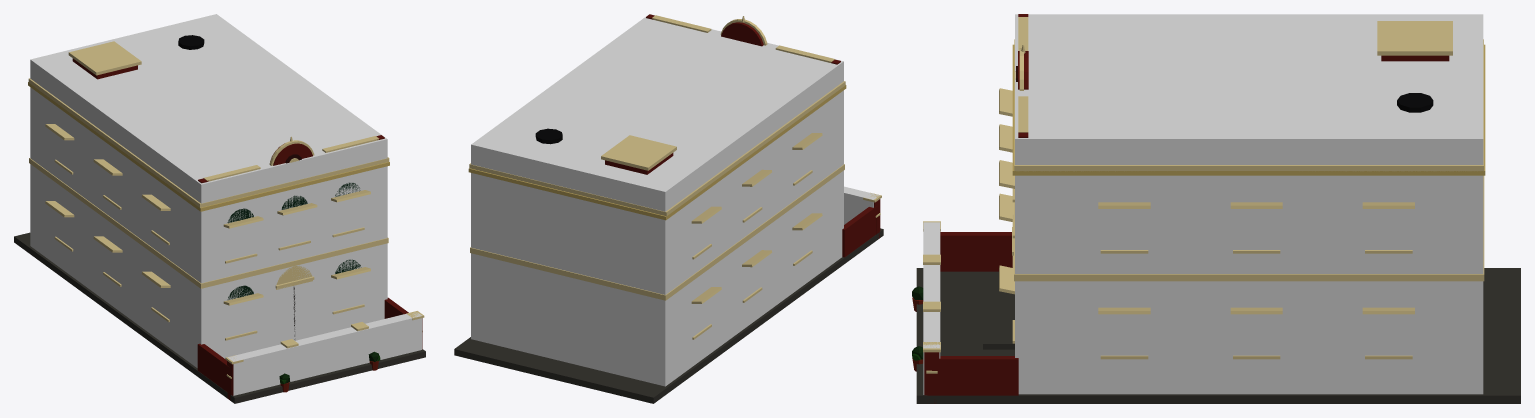
The model's file is CHN_012_madras_terrace.glb.
3 views of the same model, side by side, from view 1: azimuth 30°, elevation 25°; view 2: azimuth 150°, elevation 25°; view 3: azimuth 270°, elevation 25° (orthographic). The views are drawn at different scales.
Parts seen in each view (by area): view 1: COL_Main, LOD0, COL_Compound; view 2: COL_Main, LOD0, COL_Compound; view 3: COL_Main, LOD0, COL_Compound.
Boxes of the visible parts, x1,y1,x2,y2 form: COL_Main: (30, 14, 387, 367); LOD0: (14, 35, 425, 403); COL_Compound: (227, 312, 422, 395); COL_Main: (471, 14, 843, 386); LOD0: (454, 14, 883, 403); COL_Compound: (844, 186, 879, 224); COL_Main: (1015, 14, 1483, 394); LOD0: (912, 14, 1520, 403); COL_Compound: (923, 222, 940, 394).
Size of what is drawn, in the model's own units: 8.65 by 8.62 by 16.13.
